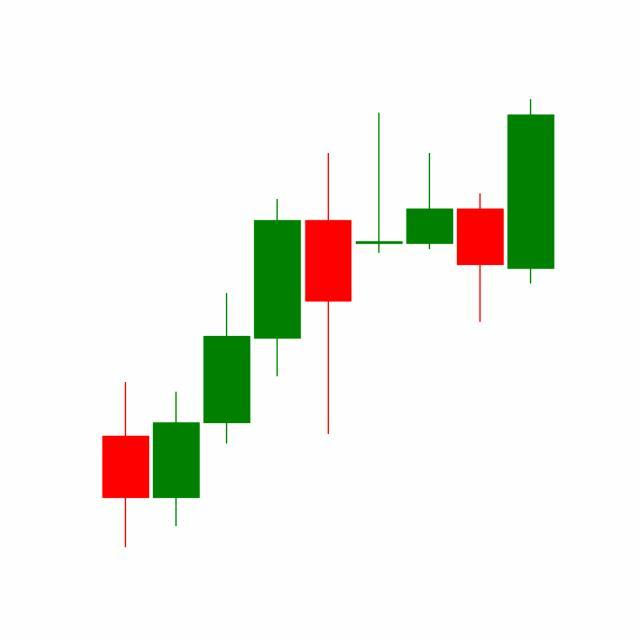Hikkake Pattern: (252, 110, 506, 439)
